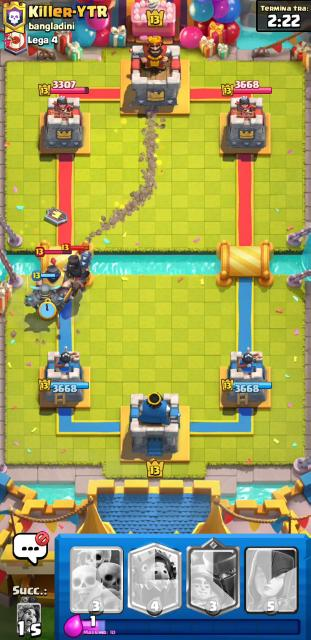ally_melee: (24, 271, 66, 317)
enemy_melee: (34, 247, 72, 304), (62, 245, 91, 293)
